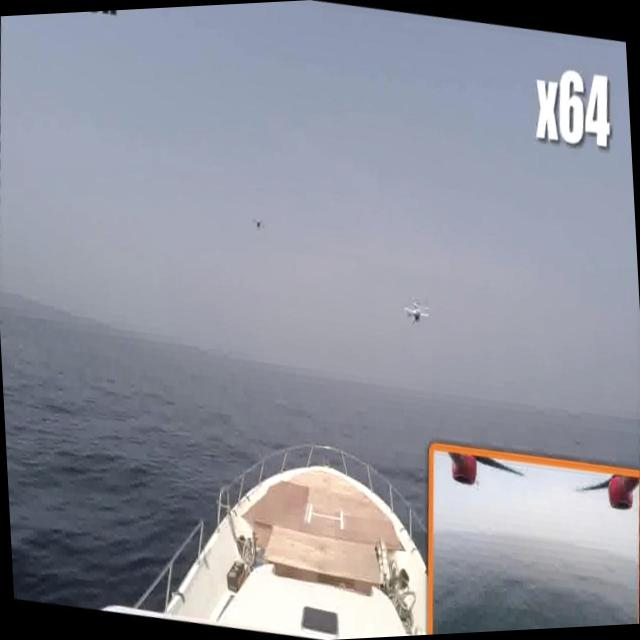drone: (397, 285, 440, 338), (251, 204, 268, 238)
